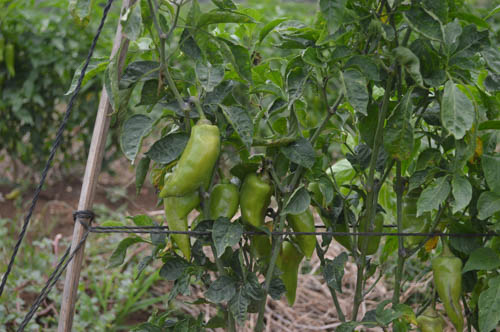ChiliPepper: (161, 125, 217, 199), (161, 181, 198, 262), (436, 256, 463, 326), (205, 179, 240, 226), (238, 171, 265, 230), (289, 207, 317, 253), (358, 212, 384, 256)
